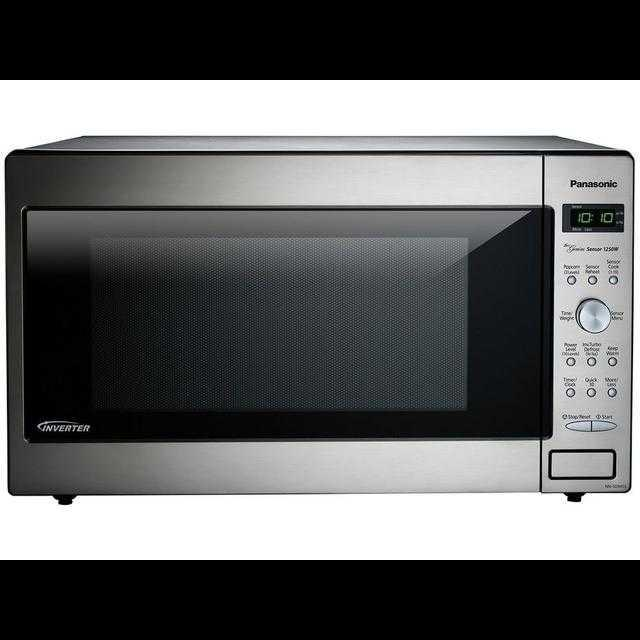Oven: (4, 143, 638, 499)
